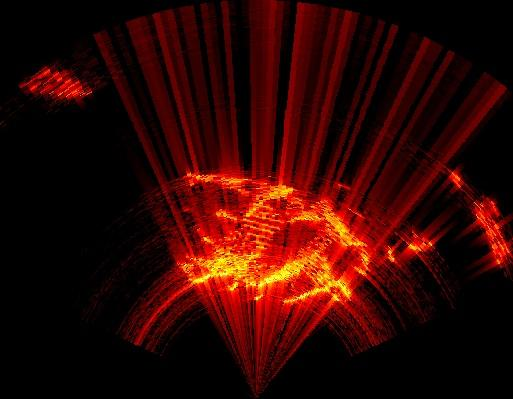shipwreck: (186, 175, 370, 274), (184, 244, 352, 303), (476, 202, 510, 264), (50, 78, 89, 98), (405, 236, 432, 253)
